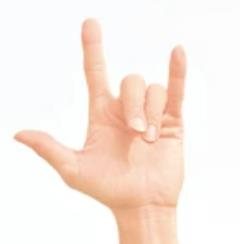back: (7, 12, 191, 204)
